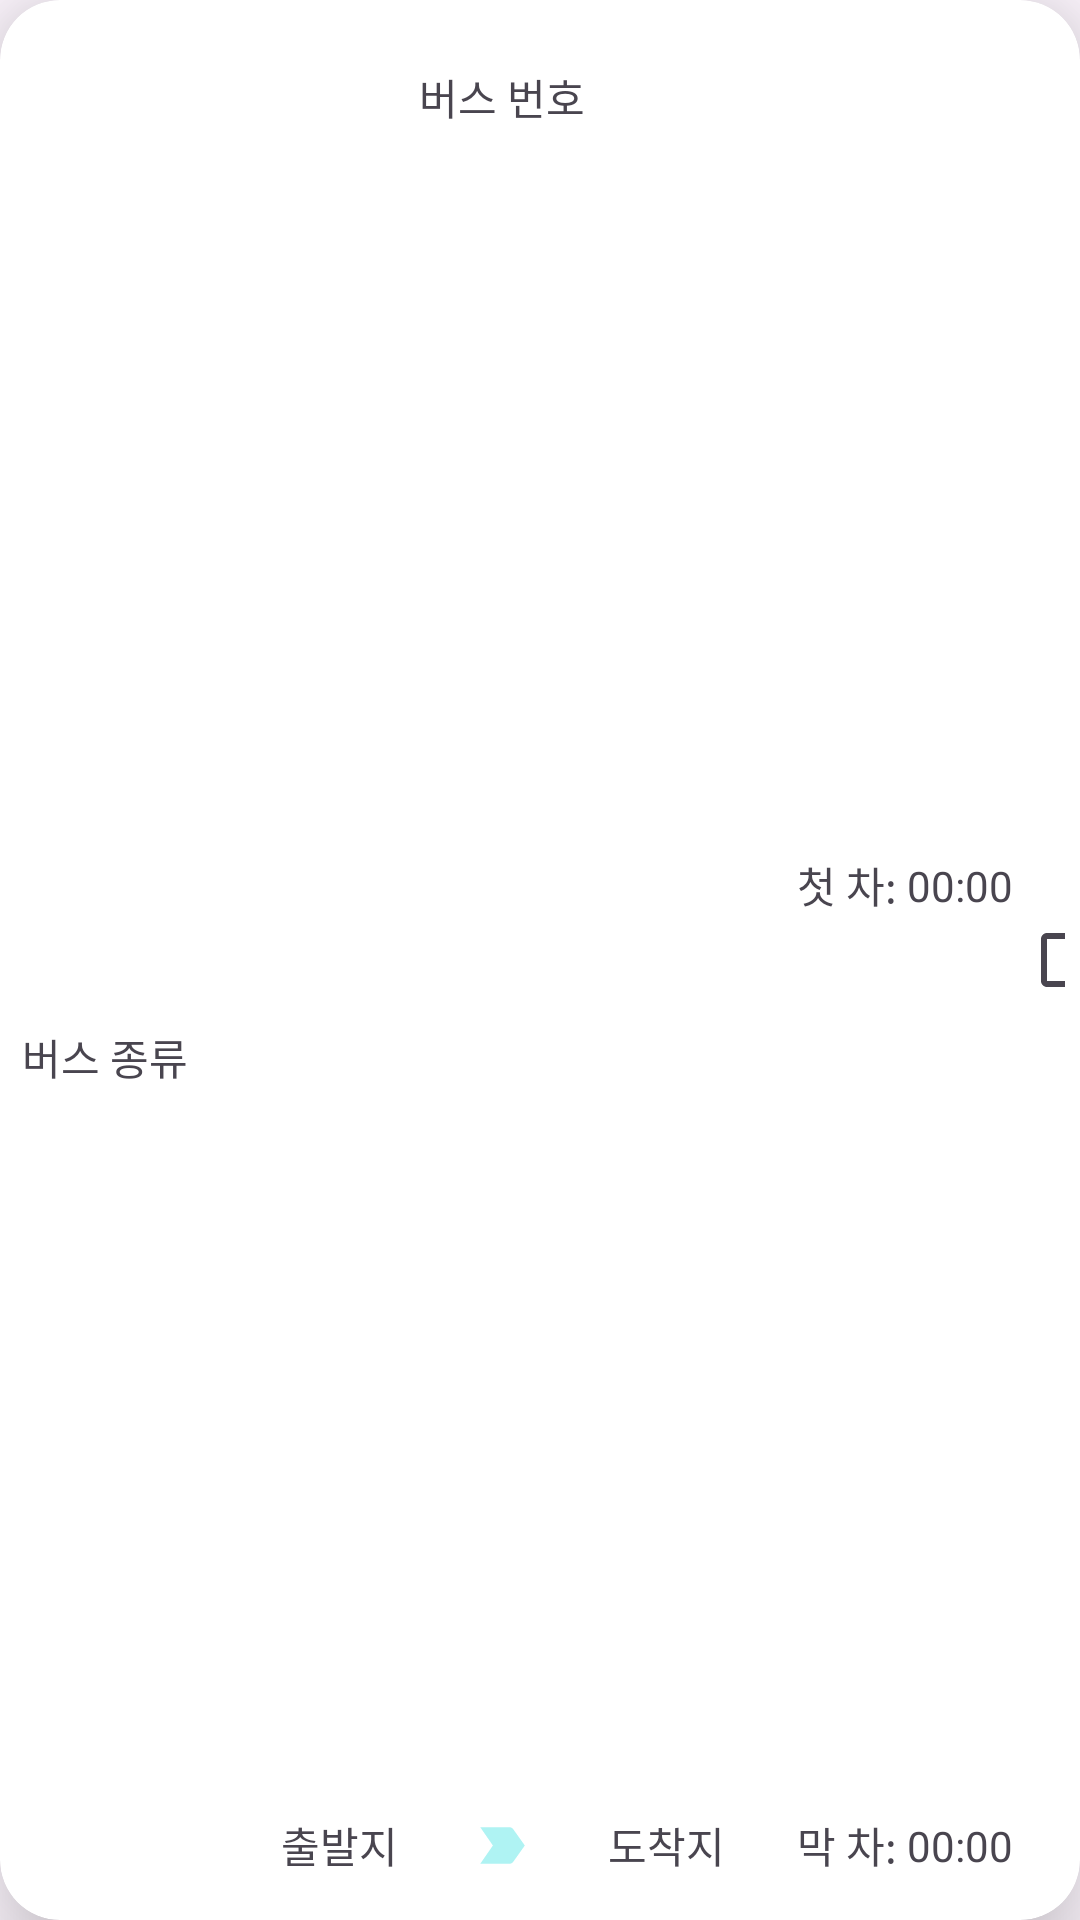

Screen size 1080 x 1920. Icon name, then its center in pixels as point (x, y):
label important: point (502, 1845)
